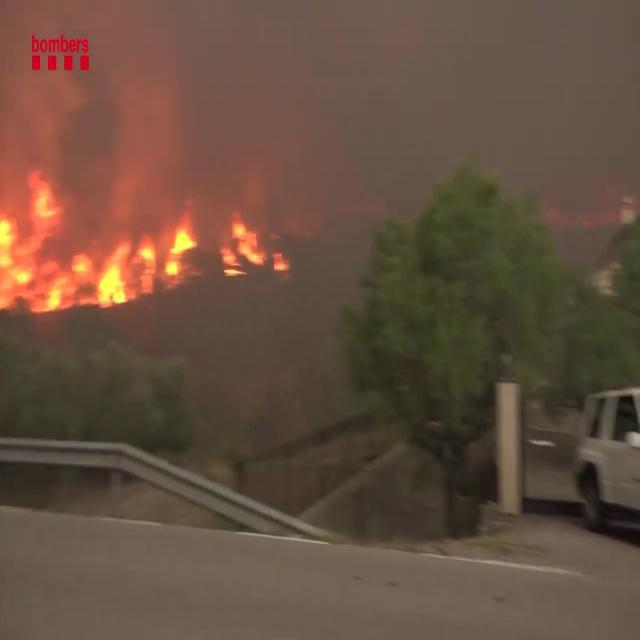Fire: (0, 176, 198, 316), (221, 215, 267, 278)
